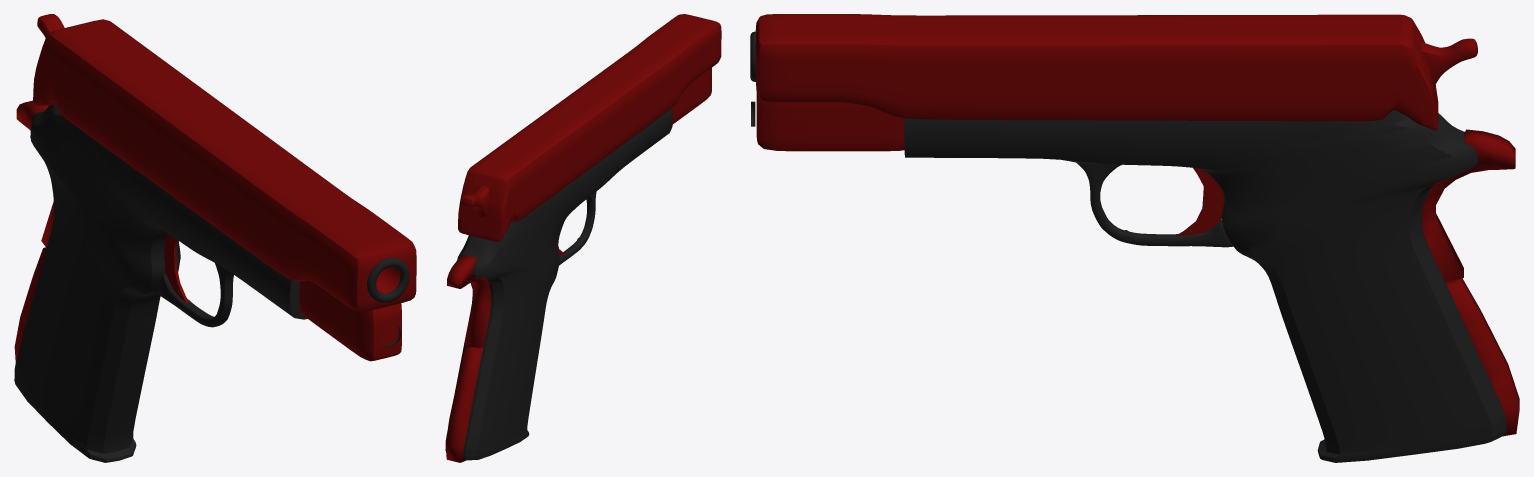
The picture shows the model from 3 angles, left to right: view 1: azimuth 30°, elevation 25°; view 2: azimuth 150°, elevation 25°; view 3: azimuth 270°, elevation 25°; orthographic projection. The views are drawn at different scales.
Visible parts, largest first — view 1: Gun; view 2: Gun; view 3: Gun.
Part boxes in pixels (x1,y1,x2,y2): Gun: [14, 14, 416, 462]; Gun: [445, 14, 721, 462]; Gun: [750, 14, 1519, 462].
Bounding box in the file's own units: 116 × 703 × 1148.
